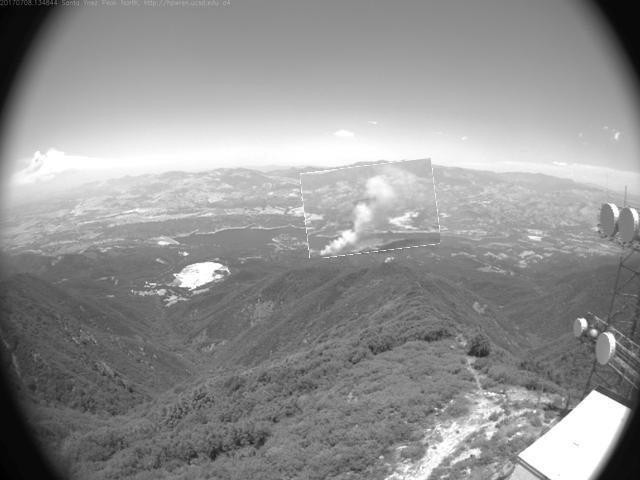smoke: (304, 163, 440, 257)
